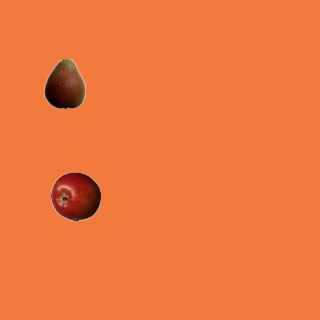Apple Braeburn: (50, 171, 100, 221)
Pear Forelle: (39, 58, 89, 108)
